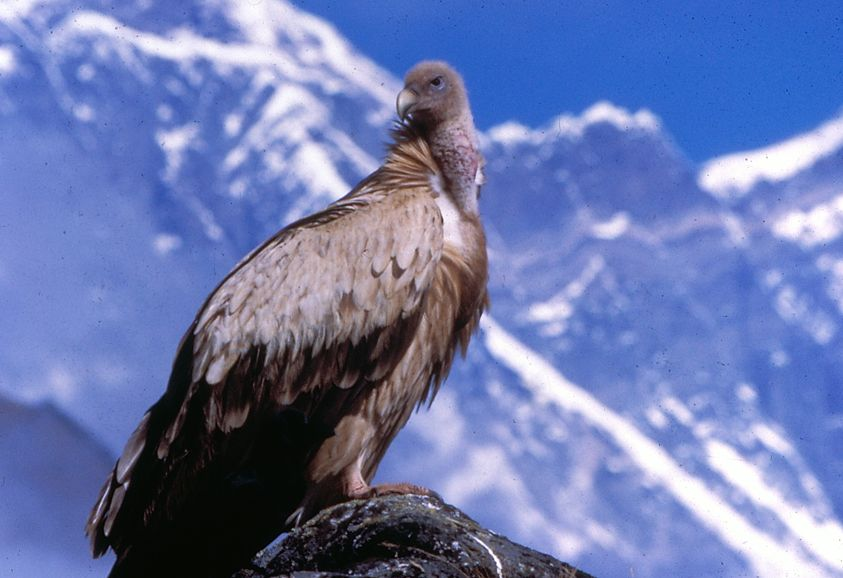bird: (70, 47, 511, 578)
